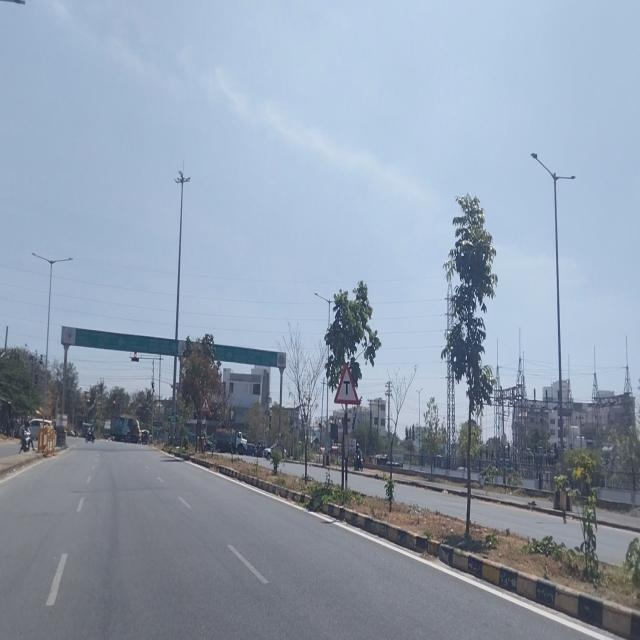bien_nguy_hiem: (334, 364, 359, 406), (200, 396, 211, 413)
